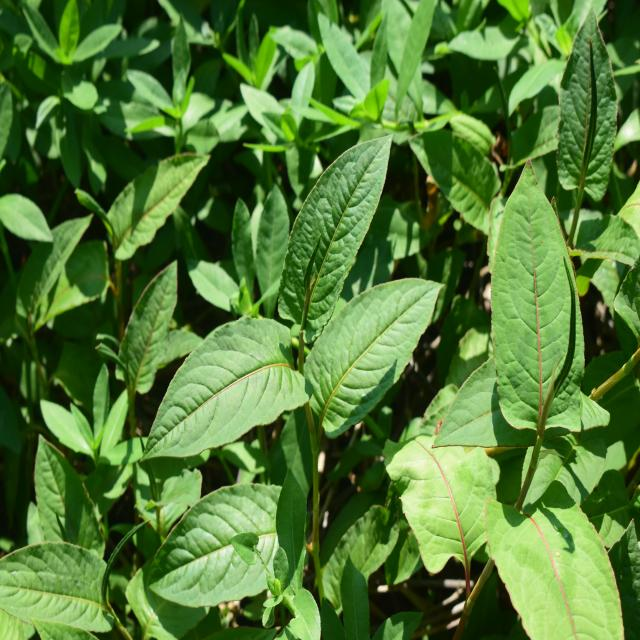Chinese_knotweed: (167, 156, 417, 470), (446, 190, 612, 612)
